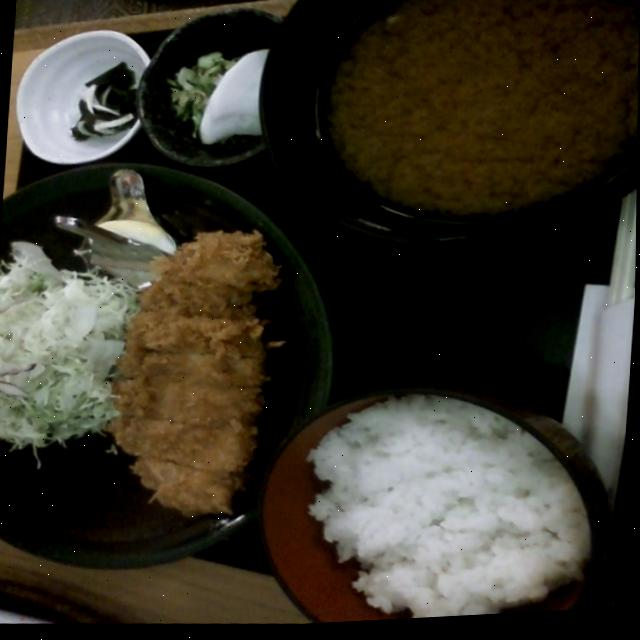汤锅炖物: (298, 0, 640, 242)
米饭主食: (304, 387, 612, 627)
蔬菜料理: (0, 228, 113, 465)
